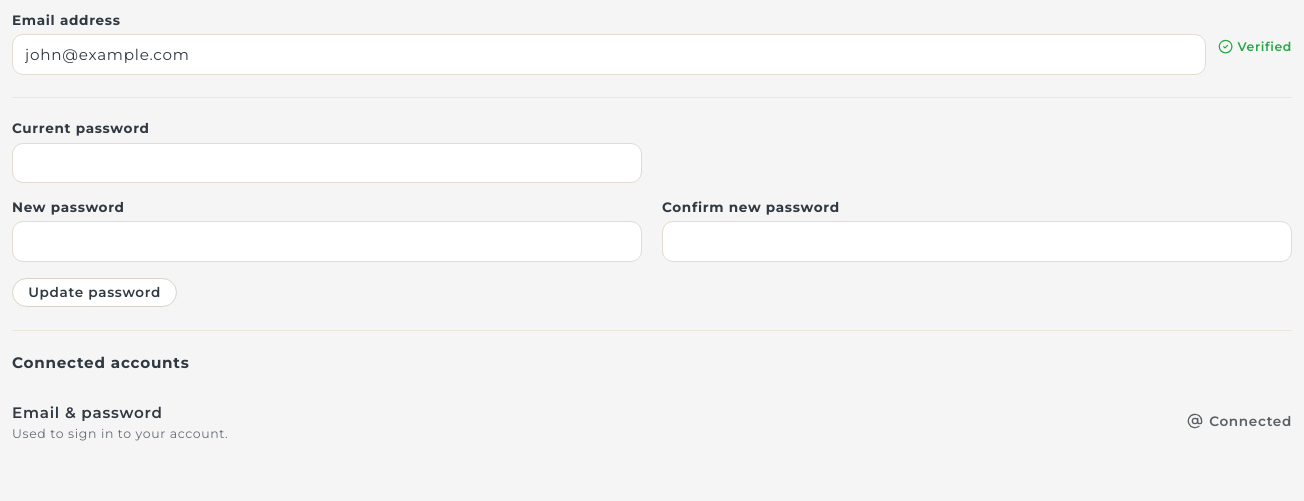
Test: Account & Security — change password › blocks a change when all fields are empty
The width and height of the screenshot is (1304, 501).
What coordinates should you click on to do the following:
click the button "Update password"
I would click on:
 (95, 292)
Its box is [12,278,177,308].
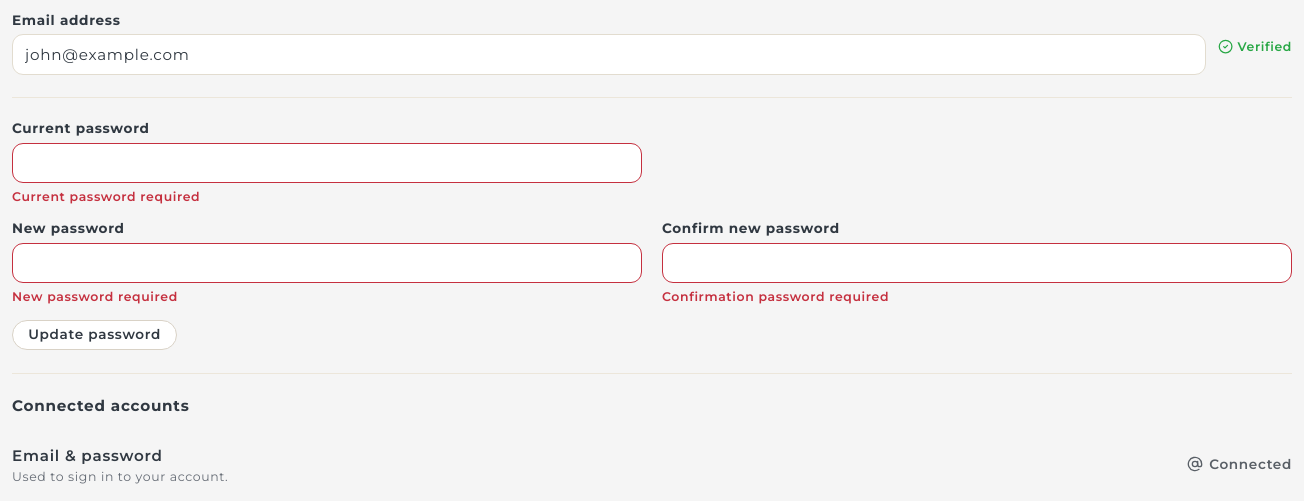
Now the text "Current password required" is shown, box [12,189,200,204]
Now the text "New password required" is shown, box [12,289,178,304]
Now the text "Confirmation password required" is shown, box [662,289,889,304]
